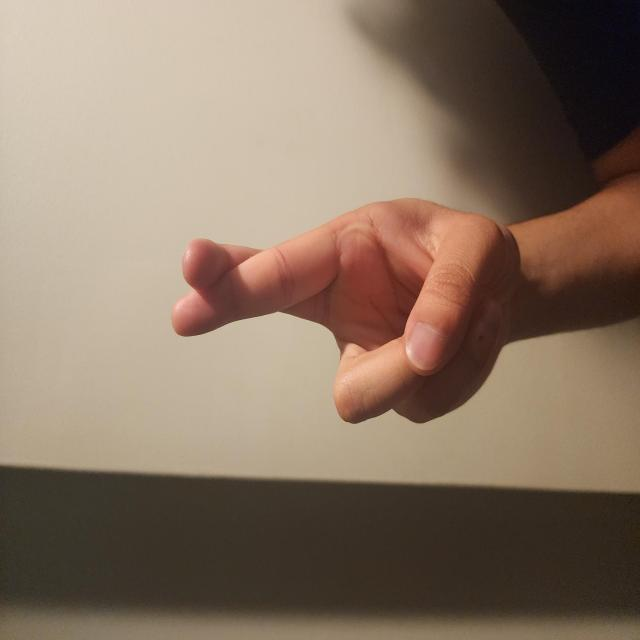R: (156, 223, 338, 640)
